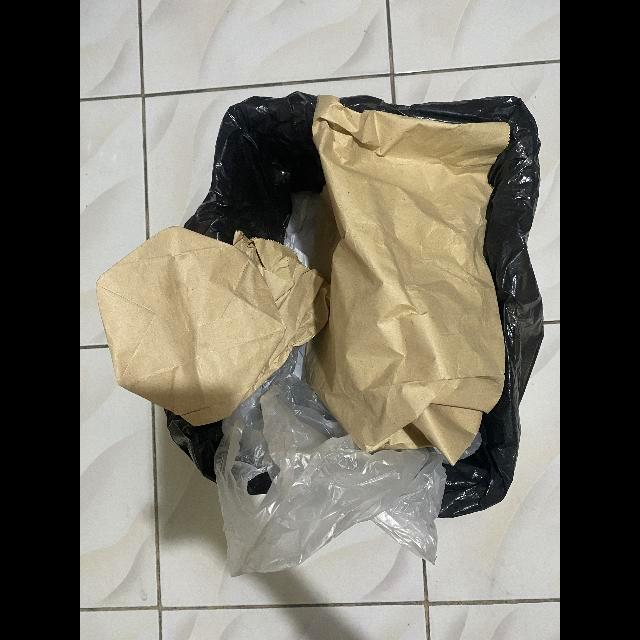paper: (306, 93, 511, 467), (95, 226, 330, 425)
plastic_bag: (213, 346, 483, 578)
